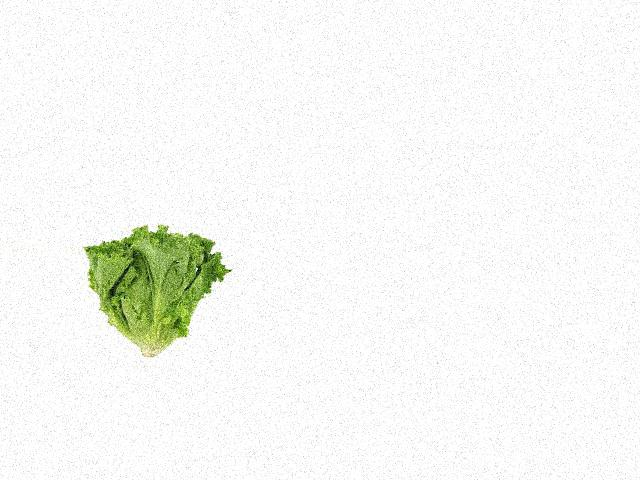lettuce: (83, 218, 223, 377)
